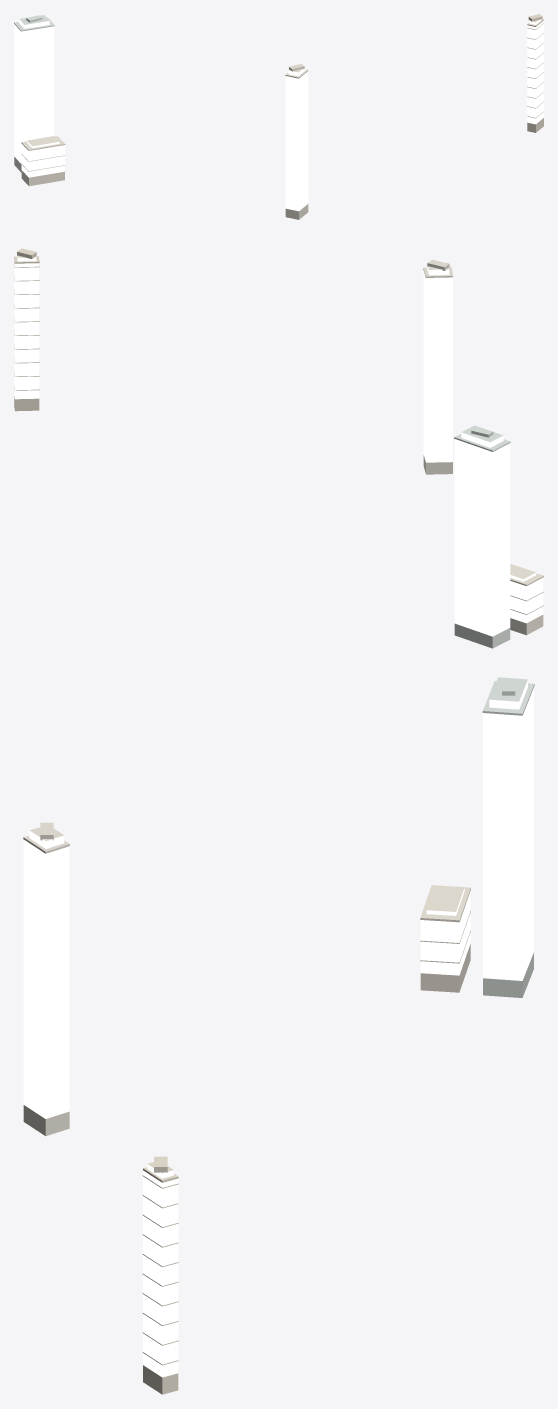
The model's file is buildings--3_-2-fine.glb.
The picture shows the model from 3 angles, top to bottom: view 1: azimuth 30°, elevation 25°; view 2: azimuth 150°, elevation 25°; view 3: azimuth 270°, elevation 25°; orthographic projection. The views are drawn at different scales.
Parts seen in each view (by area): view 1: block_-3_-2_office, block_-3_-2_residential, block_-3_-2_roof, block_-3_-2_darkglass, block_-3_-2_concrete; view 2: block_-3_-2_office, block_-3_-2_residential, block_-3_-2_darkglass, block_-3_-2_roof, block_-3_-2_concrete; view 3: block_-3_-2_office, block_-3_-2_residential, block_-3_-2_roof, block_-3_-2_darkglass, block_-3_-2_concrete.
Part boxes in pixels (bbox=[...]): block_-3_-2_office: bbox=[14, 19, 308, 211]; block_-3_-2_residential: bbox=[21, 19, 543, 177]; block_-3_-2_roof: bbox=[14, 14, 543, 175]; block_-3_-2_darkglass: bbox=[14, 118, 543, 219]; block_-3_-2_concrete: bbox=[21, 19, 543, 171]; block_-3_-2_office: bbox=[423, 263, 510, 636]; block_-3_-2_residential: bbox=[14, 256, 543, 623]; block_-3_-2_darkglass: bbox=[14, 396, 543, 648]; block_-3_-2_roof: bbox=[14, 248, 543, 636]; block_-3_-2_concrete: bbox=[14, 258, 543, 614]; block_-3_-2_office: bbox=[23, 680, 533, 1118]; block_-3_-2_residential: bbox=[143, 888, 470, 1377]; block_-3_-2_roof: bbox=[24, 677, 534, 1364]; block_-3_-2_darkglass: bbox=[23, 944, 533, 1394]; block_-3_-2_concrete: bbox=[142, 888, 470, 1365].
Bounding box in the file's own units: 191 × 60.45 × 94.39.
